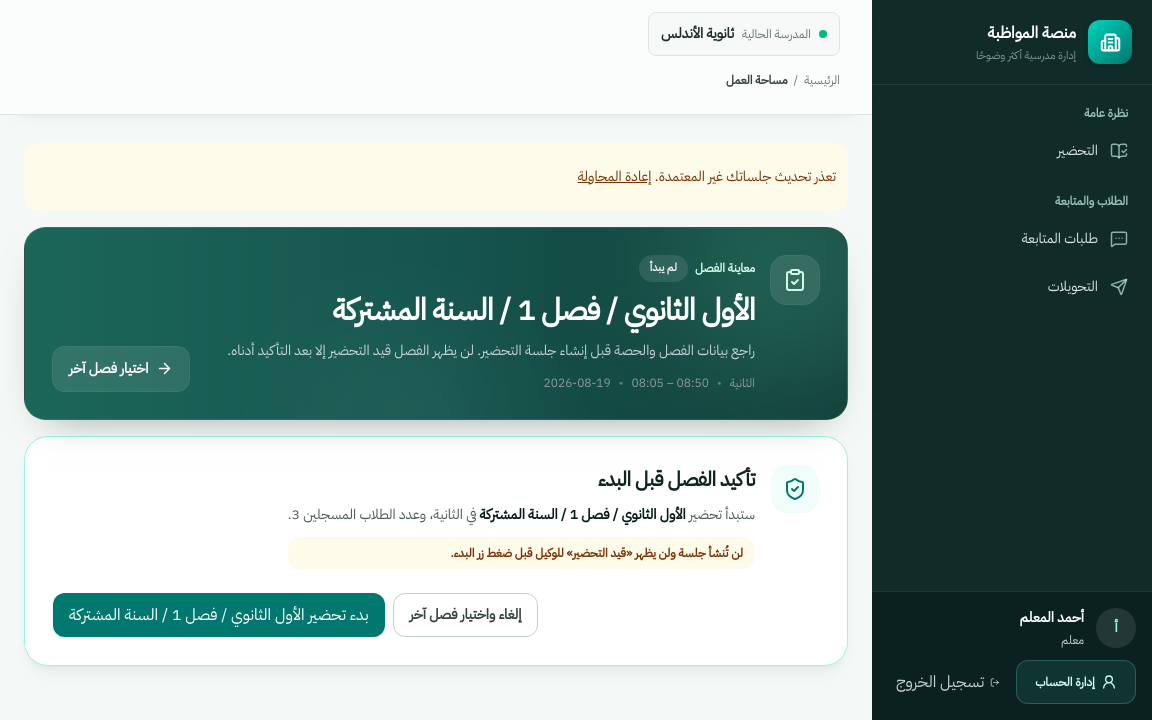
attendance › resolves a QR token and opens the section roster
This screenshot has width=1152, height=720.
expect the text with test id "preview-section-name" reads "الأول الثانوي / فصل 1 / السنة المشتركة": met, box [333,286,755,332]
Click the button with test id "start-attendance": [219, 614] box [53,592,384,636]
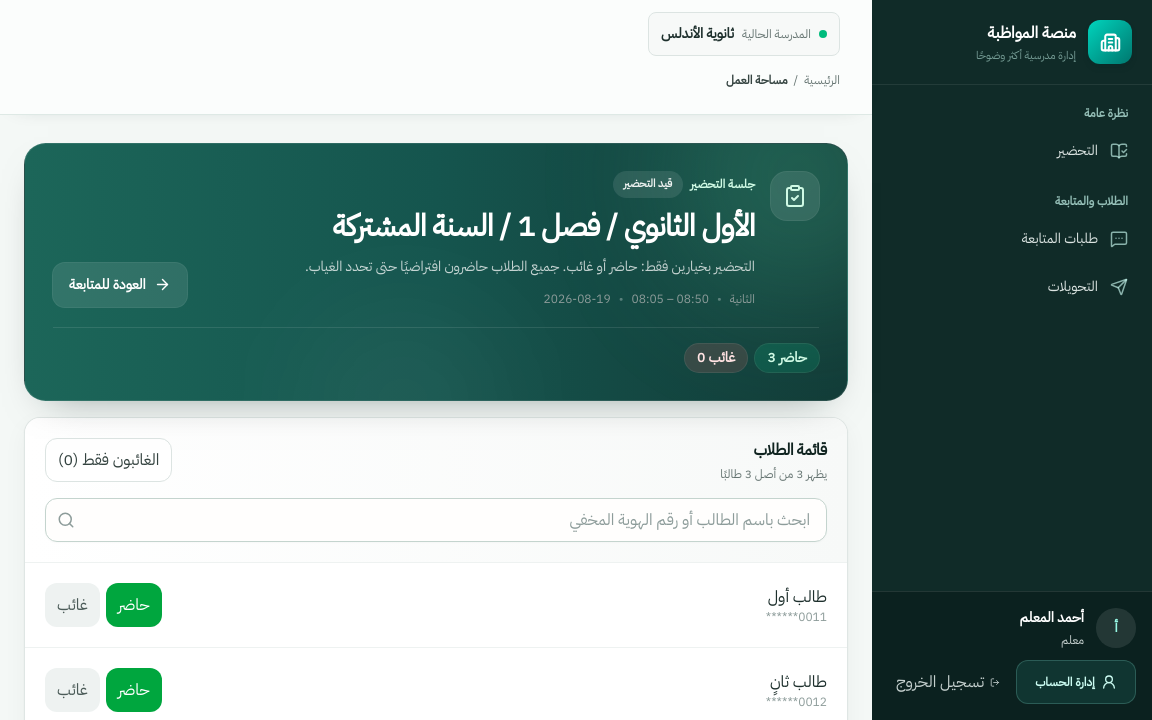
expect the text with test id "session-section-name" reads "الأول الثانوي / فصل 1 / السنة المشتركة": met, box [333,202,755,248]
expect the list item with test id "roster-student-11" is shown: met, box [25,562,847,648]
